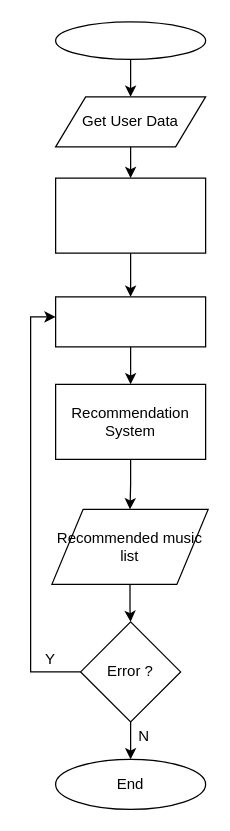
Some shapes in this 230 by 831 pixel diagram are drawn without their labels. The centre of each missing label's shape, as x and y in pixels:
"Extract feature from music data" goes at (x=130, y=215).
"Start" goes at (x=130, y=40).
"User model" goes at (x=130, y=321).
